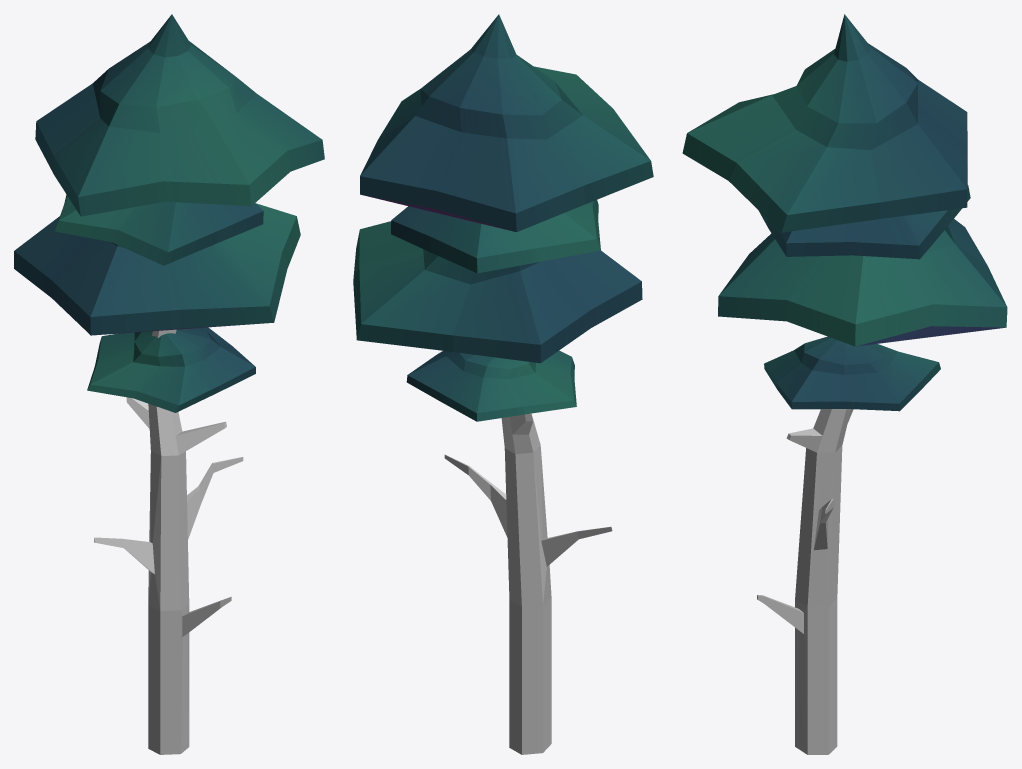
The model's file is Tree_Pine05.fbx.
The picture shows the model from 3 angles, left to right: view 1: azimuth 30°, elevation 25°; view 2: azimuth 150°, elevation 25°; view 3: azimuth 270°, elevation 25°; orthographic projection. The views are drawn at different scales.
Visible parts, largest first — view 1: TolTreeTrunk4; view 2: TolTreeTrunk4; view 3: TolTreeTrunk4.
Boxes of the visible parts, x1=… form: TolTreeTrunk4: x1=14, y1=14, x2=324, y2=754; TolTreeTrunk4: x1=353, y1=14, x2=653, y2=754; TolTreeTrunk4: x1=682, y1=14, x2=1007, y2=754.
Bounding box in the file's own units: 239 × 645 × 256.
